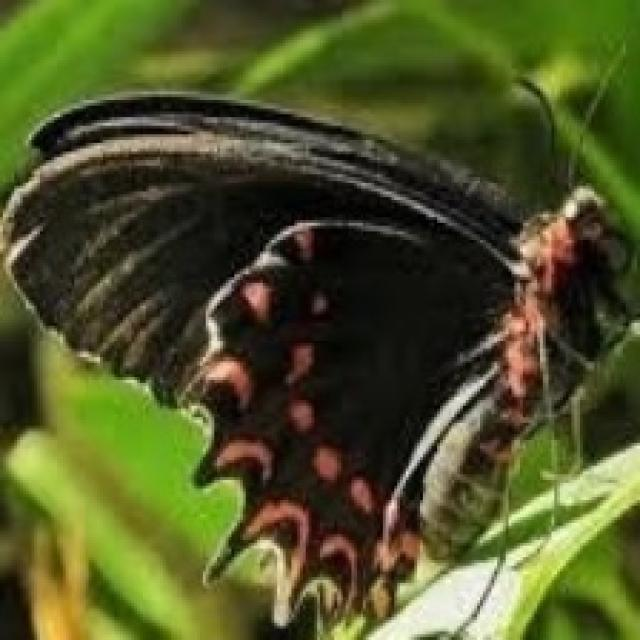butterfly: (0, 32, 637, 637)
